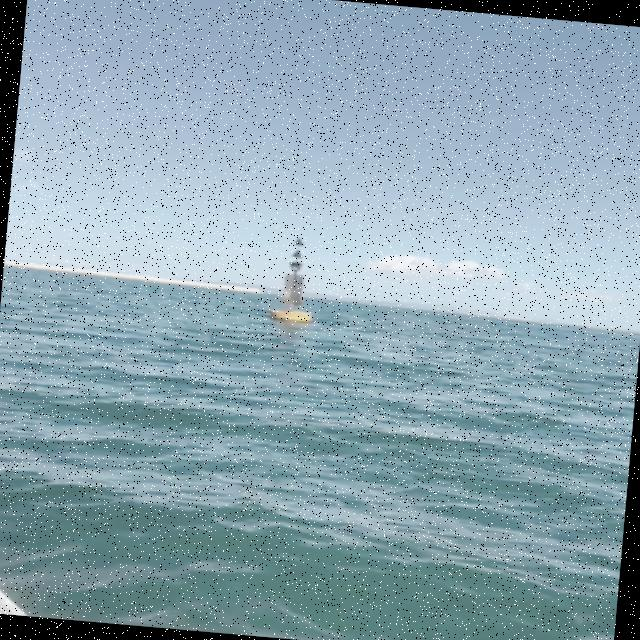marque: (266, 235, 321, 325)
